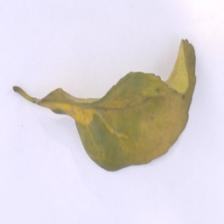greening: (3, 37, 196, 152)
